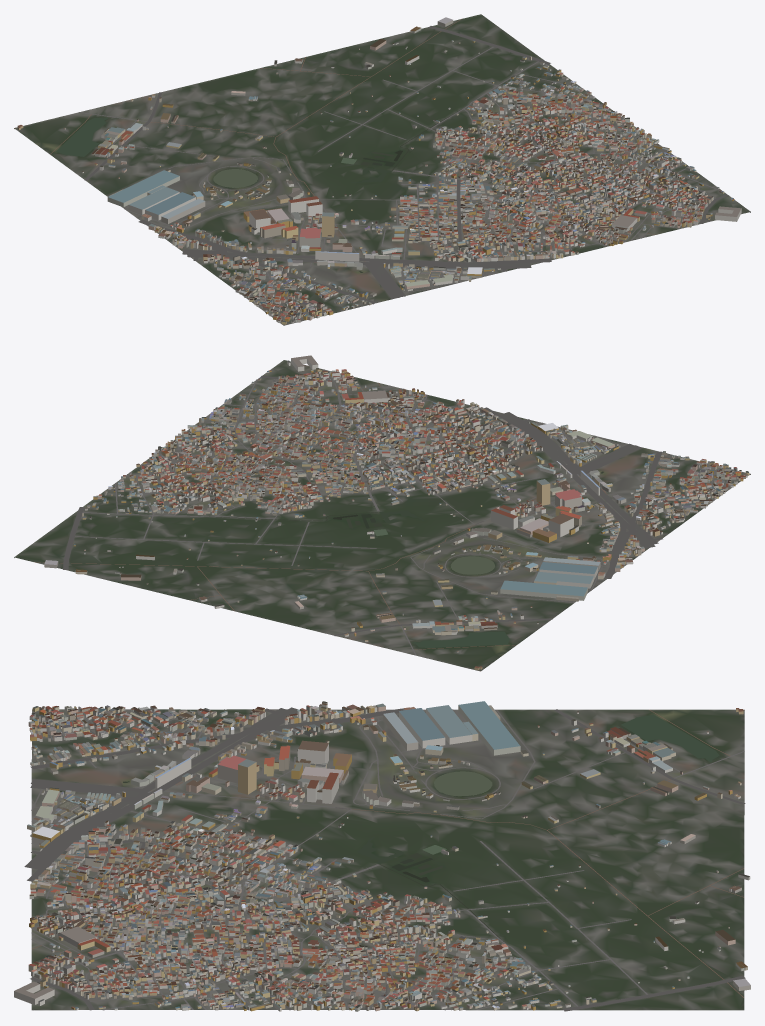
3 views of the same model, one above another, from view 1: azimuth 30°, elevation 25°; view 2: azimuth 150°, elevation 25°; view 3: azimuth 270°, elevation 25° (orthographic). The views are drawn at different scales.
Parts seen in each view (by area): view 1: ground, buildings, roads, water; view 2: ground, buildings, roads, water; view 3: ground, buildings, roads, water.
Boxes of the visible parts, x1=… form: ground: x1=14, y1=14, x2=750, y2=325; buildings: x1=17, y1=17, x2=741, y2=324; roads: x1=14, y1=19, x2=750, y2=322; water: x1=56, y1=109, x2=461, y2=272; ground: x1=14, y1=360, x2=750, y2=670; buildings: x1=44, y1=355, x2=749, y2=670; roads: x1=34, y1=360, x2=739, y2=671; water: x1=209, y1=471, x2=603, y2=647; ground: x1=31, y1=709, x2=744, y2=1010; buildings: x1=14, y1=701, x2=750, y2=1011; roads: x1=24, y1=707, x2=745, y2=1011; water: x1=123, y1=714, x2=719, y2=941.
Size of the model in its own units: 1421 by 62.88 by 1450.
